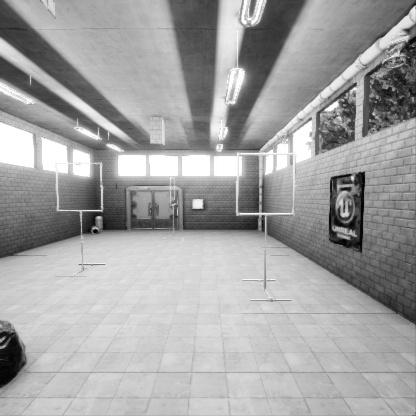gate: (238, 203, 301, 265), (60, 206, 109, 254), (170, 211, 175, 240)
